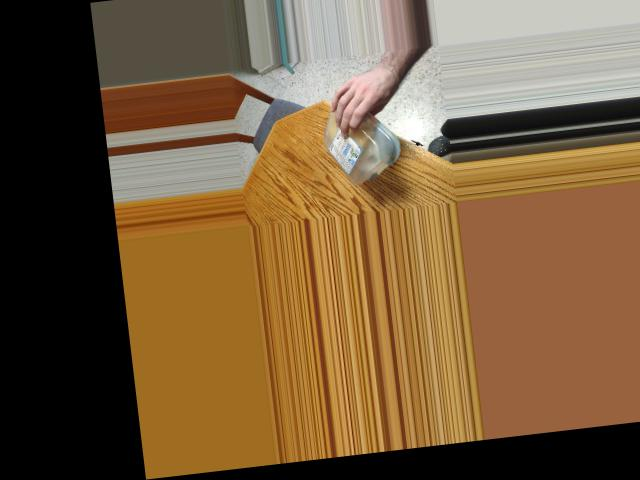cheese: (316, 85, 399, 189)
